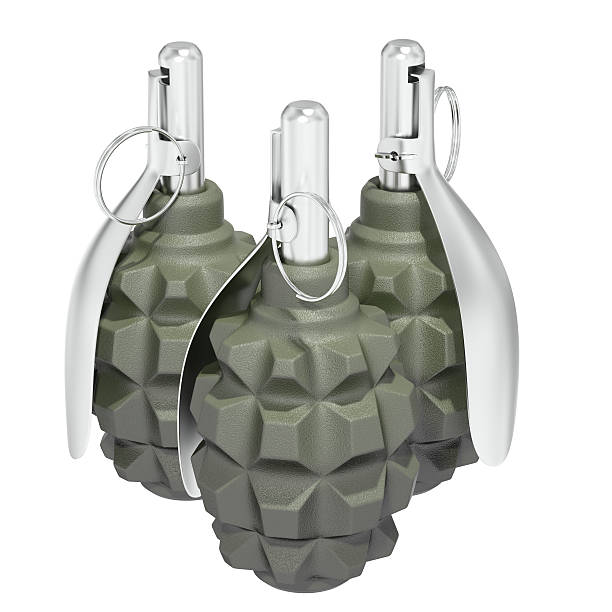e1: (175, 96, 422, 599)
